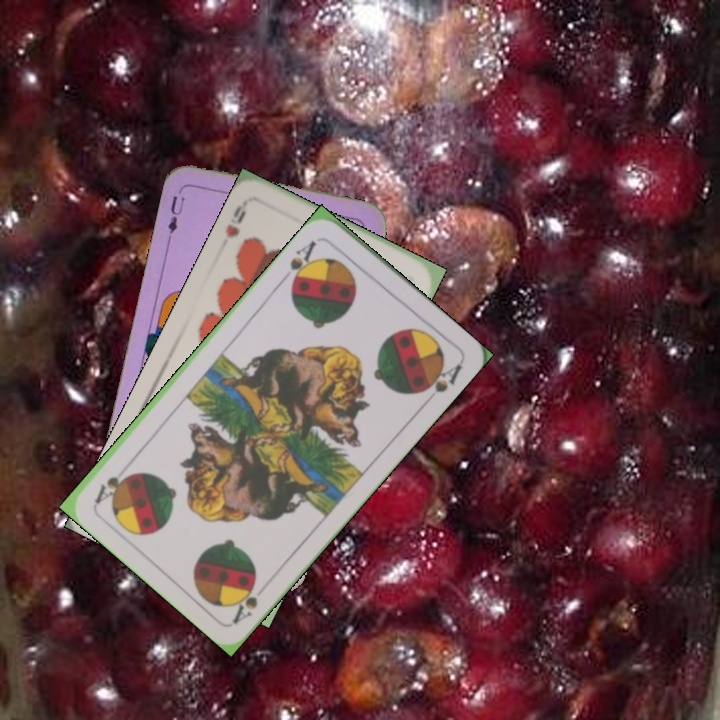EU: (164, 184, 188, 237)
H9: (221, 197, 250, 240)
SA: (228, 574, 273, 626), (278, 236, 320, 290)
